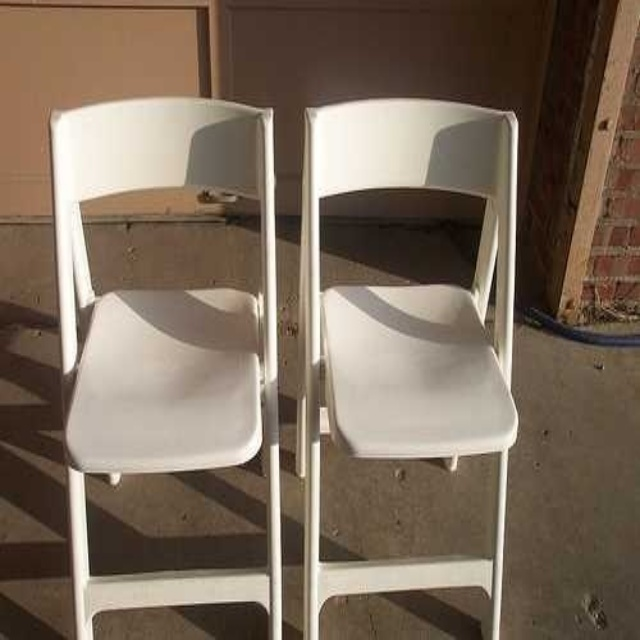obstacle: (51, 98, 280, 636), (301, 98, 517, 636)
